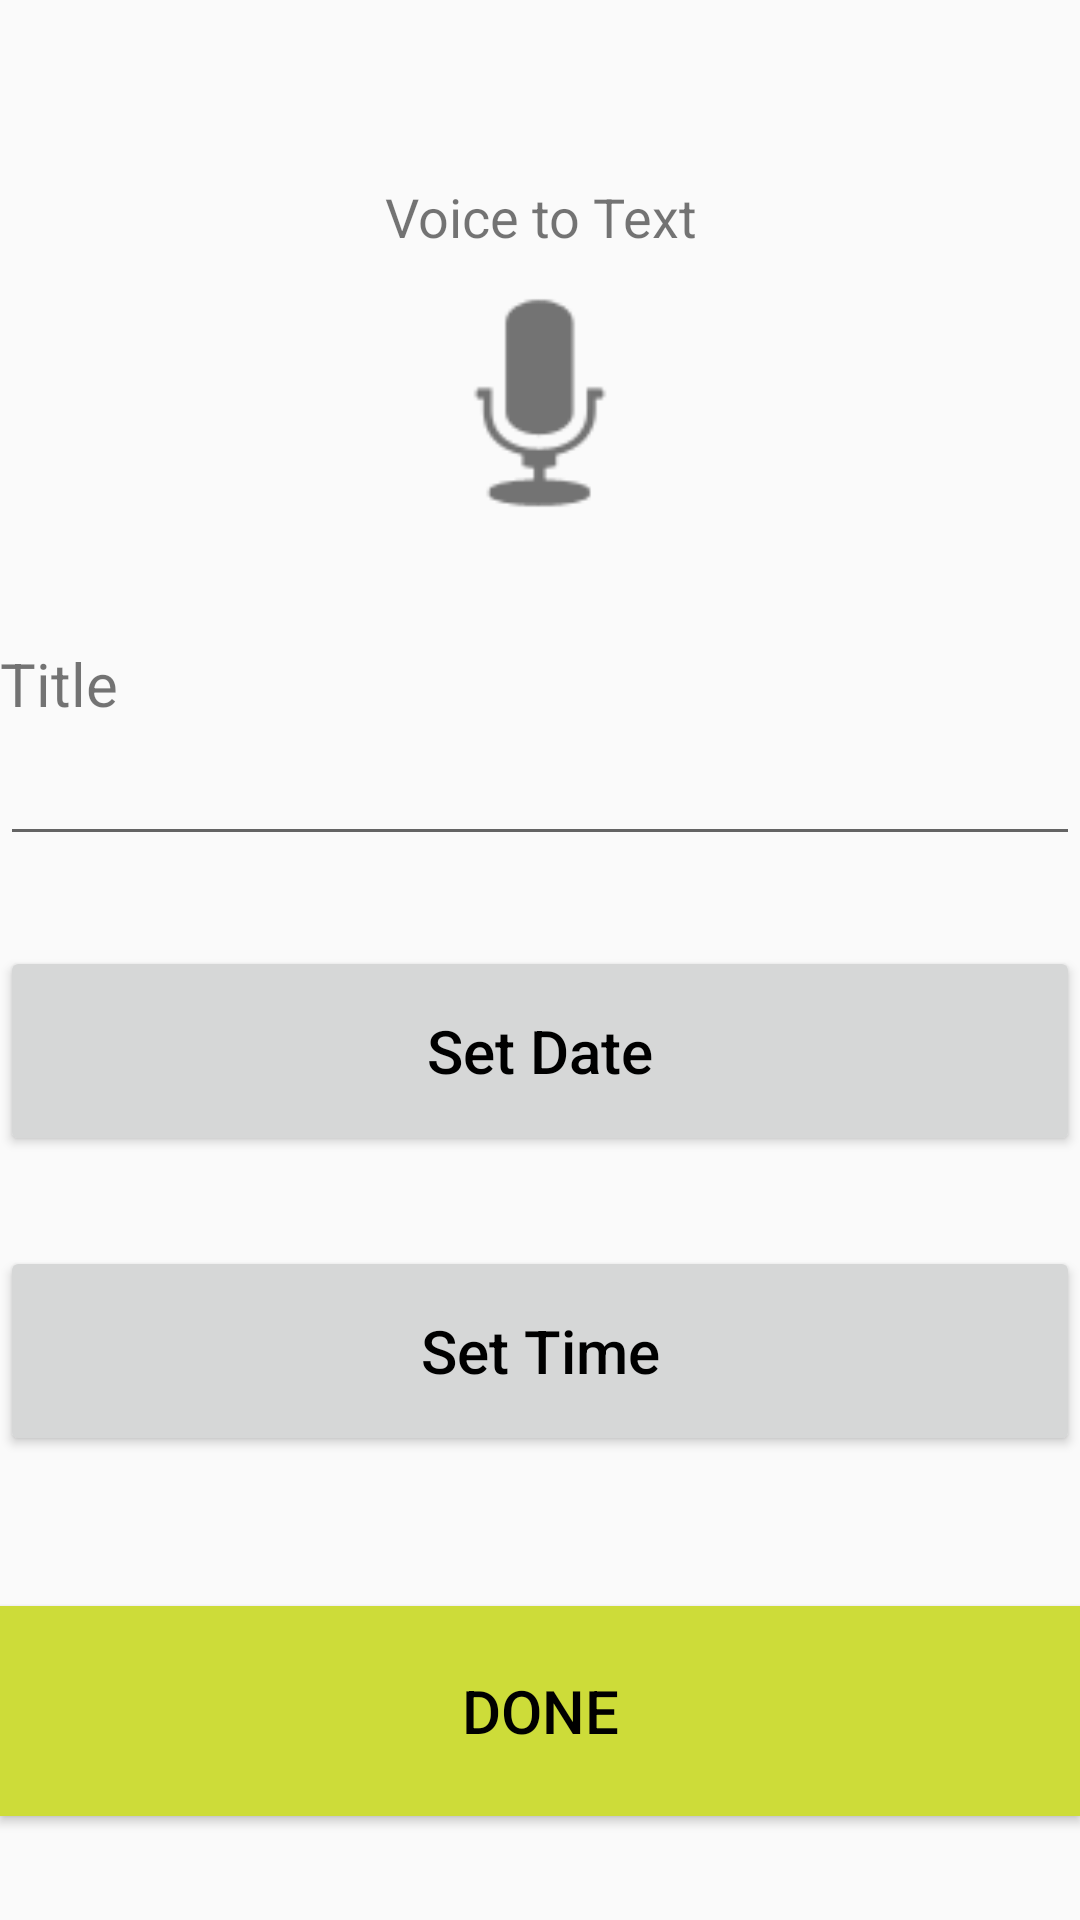

Locate icon controls on the screen. Image size 1080 x 1920, boxes as (x1, y1, x2, y2).
speak now: (474, 299, 605, 507)
